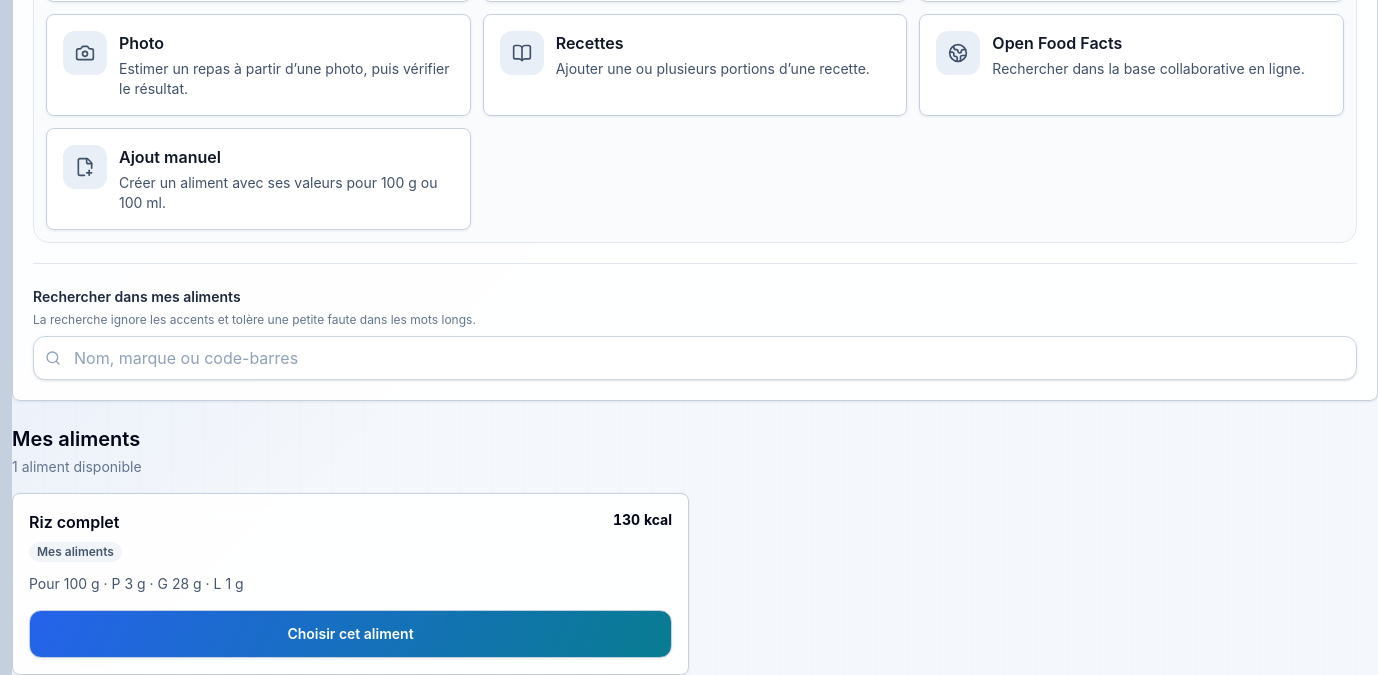
Test case: MealFoodSelectorPage › recherche dans tous les aliments locaux même depuis l’onglet des récents
(page scrolled)
Type "riz" into the search field labelled "Rechercher dans mes aliments" at (695, 358), box [33,336,1357,380]
(page scrolled)
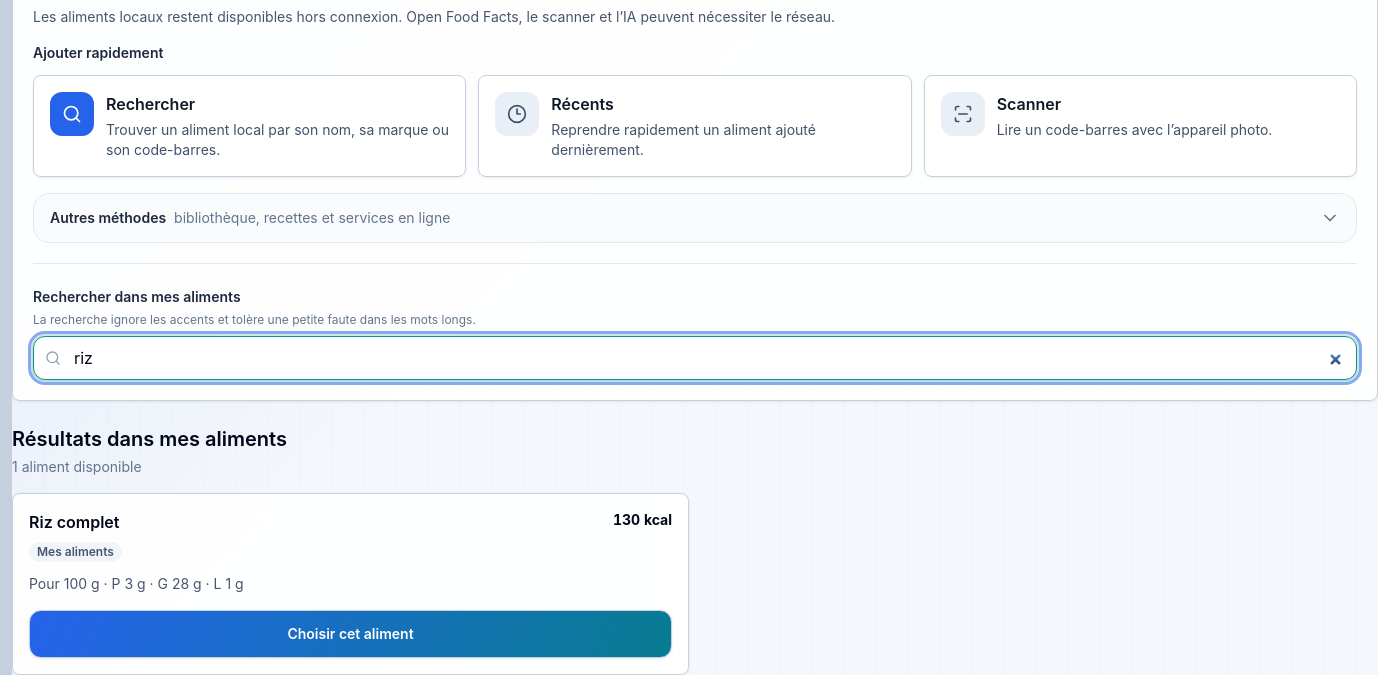
Check: the heading "Riz complet" is shown, box [29,510,120,534]
Check: the heading "Résultats dans mes aliments" is shown, box [12,425,287,453]
